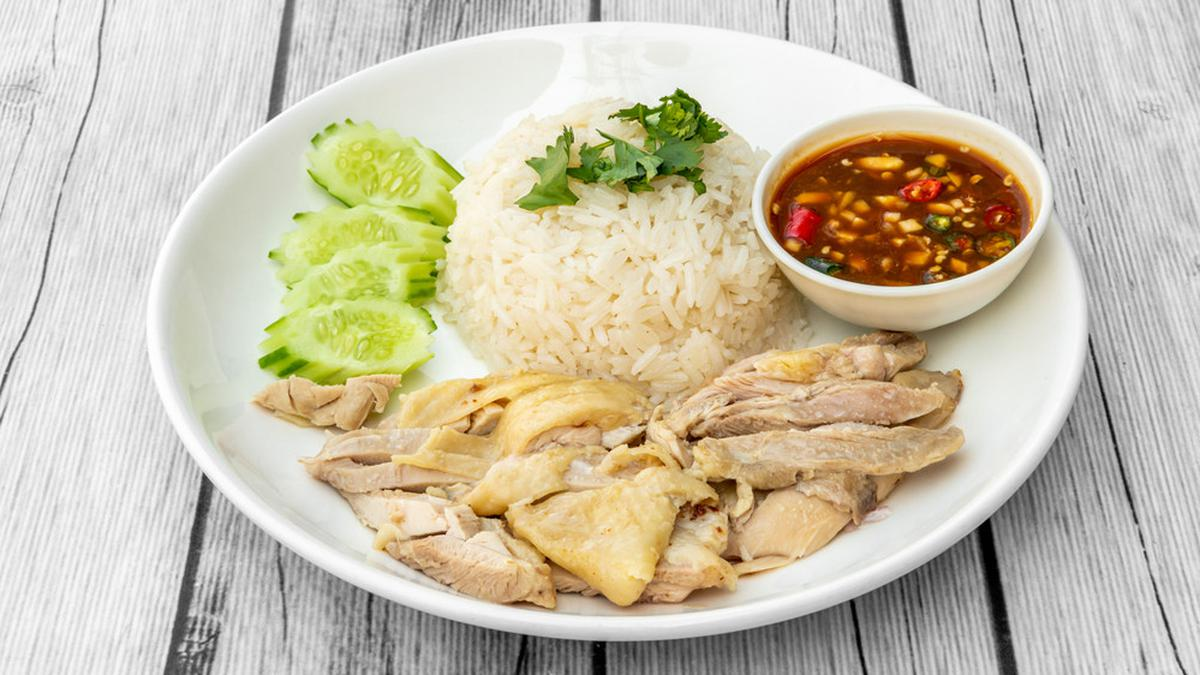buah_sayur_lainnya: (320, 140, 404, 351), (820, 145, 987, 249)
daging: (414, 430, 833, 544)
makanan_berpati: (496, 219, 724, 354)
